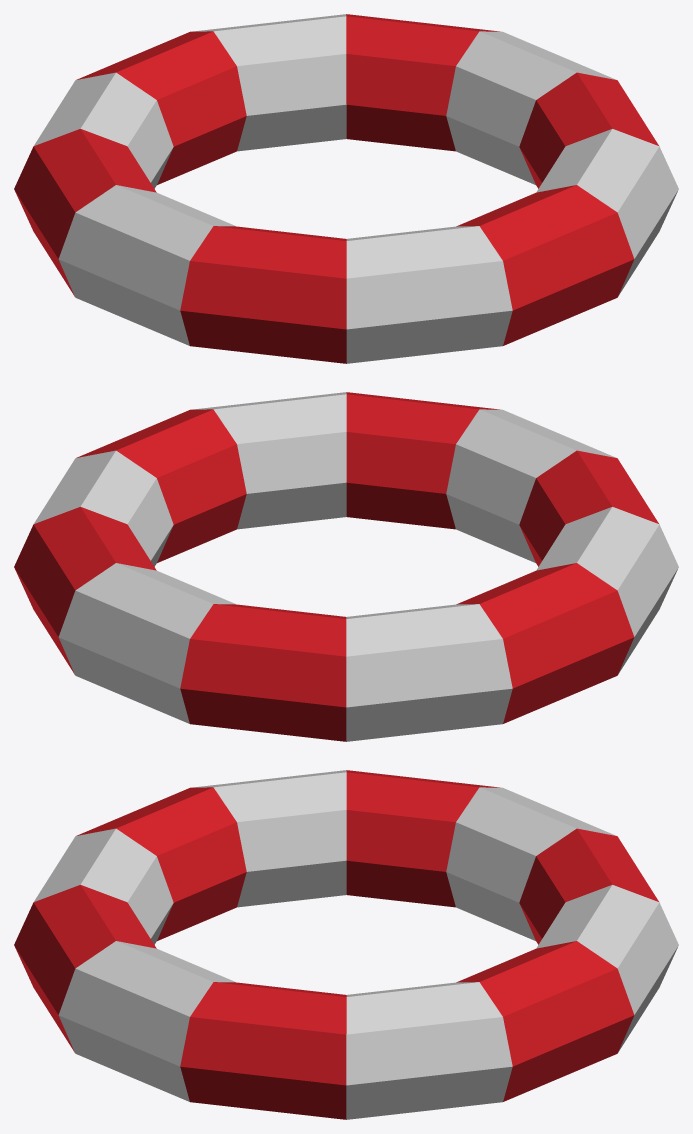
Rendered from Buoy_1.fbx.
The picture shows the model from 3 angles, top to bottom: view 1: azimuth 30°, elevation 25°; view 2: azimuth 150°, elevation 25°; view 3: azimuth 270°, elevation 25°; orthographic projection.
Visible parts, largest first — view 1: Buoy; view 2: Buoy; view 3: Buoy.
Part boxes in pixels (x1=…): Buoy: x1=14, y1=14, x2=678, y2=363; Buoy: x1=14, y1=392, x2=678, y2=741; Buoy: x1=14, y1=770, x2=678, y2=1119.
Bounding box in the file's own units: 100 × 20 × 100.
